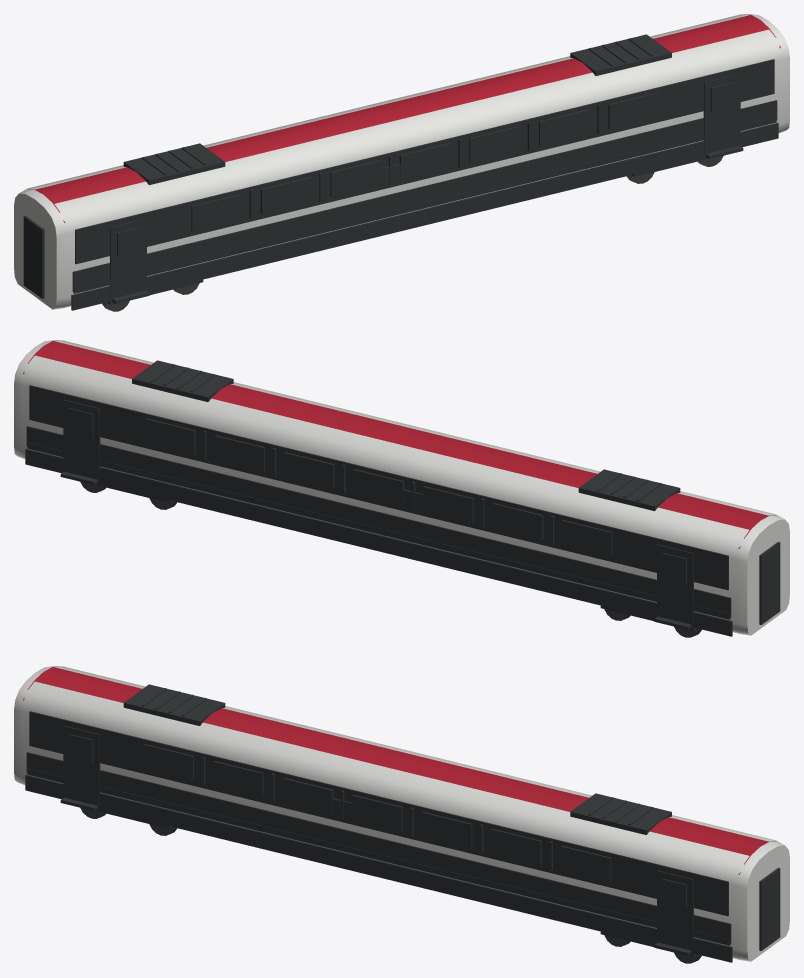
Rendered from railjet-nextgen-restaurant.glb.
The picture shows the model from 3 angles, top to bottom: view 1: azimuth 30°, elevation 25°; view 2: azimuth 150°, elevation 25°; view 3: azimuth 330°, elevation 25°; orthographic projection.
Visible parts, largest first — view 1: restaurant_lofted_body, restaurant_black_window_ribbon_-1, restaurant_red_roof, restaurant_silver_flank_-1, restaurant_dark_skirt_-1, restaurant_red_sill_-1, restaurant_hvac_0, restaurant_hvac_1, restaurant_wide_door_-1_1, restaurant_wide_door_-1_0, gangway_1.002, restaurant_window_-1_1 (+10 smaller); view 2: restaurant_lofted_body, restaurant_black_window_ribbon_1, restaurant_red_roof, restaurant_silver_flank_1, restaurant_dark_skirt_1, restaurant_red_sill_1, restaurant_hvac_0, restaurant_hvac_1, restaurant_wide_door_1_1, restaurant_wide_door_1_0, gangway_1.002, restaurant_window_1_1 (+12 smaller); view 3: restaurant_lofted_body, restaurant_black_window_ribbon_-1, restaurant_red_roof, restaurant_silver_flank_-1, restaurant_dark_skirt_-1, restaurant_red_sill_-1, restaurant_hvac_0, restaurant_hvac_1, restaurant_wide_door_-1_0, restaurant_wide_door_-1_1, gangway_0.002, restaurant_window_-1_2 (+10 smaller).
Boxes of the visible parts, left/top/right/bottom form: restaurant_lofted_body: left=14, top=14, right=789, bottom=309; restaurant_black_window_ribbon_-1: left=75, top=59, right=774, bottom=264; restaurant_red_roof: left=28, top=14, right=780, bottom=222; restaurant_silver_flank_-1: left=72, top=100, right=777, bottom=291; restaurant_dark_skirt_-1: left=71, top=122, right=778, bottom=310; restaurant_red_sill_-1: left=73, top=116, right=776, bottom=293; restaurant_hvac_0: left=123, top=143, right=225, bottom=185; restaurant_hvac_1: left=570, top=34, right=671, bottom=75; restaurant_wide_door_-1_1: left=703, top=73, right=740, bottom=154; restaurant_wide_door_-1_0: left=110, top=218, right=146, bottom=299; gangway_1.002: left=23, top=215, right=44, bottom=298; restaurant_window_-1_1: left=260, top=177, right=311, bottom=213; restaurant_lofted_body: left=14, top=340, right=789, bottom=635; restaurant_black_window_ribbon_1: left=29, top=385, right=728, bottom=590; restaurant_red_roof: left=23, top=340, right=775, bottom=548; restaurant_silver_flank_1: left=26, top=426, right=731, bottom=617; restaurant_dark_skirt_1: left=25, top=448, right=732, bottom=636; restaurant_red_sill_1: left=27, top=442, right=730, bottom=619; restaurant_hvac_0: left=578, top=469, right=680, bottom=511; restaurant_hvac_1: left=132, top=360, right=233, bottom=401; restaurant_wide_door_1_1: left=63, top=399, right=100, bottom=480; restaurant_wide_door_1_0: left=657, top=544, right=693, bottom=625; gangway_1.002: left=759, top=541, right=780, bottom=624; restaurant_window_1_1: left=492, top=503, right=543, bottom=539; restaurant_lofted_body: left=14, top=666, right=789, bottom=961; restaurant_black_window_ribbon_-1: left=29, top=711, right=728, bottom=916; restaurant_red_roof: left=23, top=666, right=775, bottom=874; restaurant_silver_flank_-1: left=26, top=752, right=731, bottom=943; restaurant_dark_skirt_-1: left=25, top=774, right=732, bottom=962; restaurant_red_sill_-1: left=27, top=768, right=730, bottom=945; restaurant_hvac_0: left=123, top=684, right=225, bottom=725; restaurant_hvac_1: left=570, top=793, right=671, bottom=834; restaurant_wide_door_-1_0: left=63, top=725, right=100, bottom=806; restaurant_wide_door_-1_1: left=657, top=870, right=693, bottom=951; gangway_0.002: left=759, top=867, right=780, bottom=950; restaurant_window_-1_2: left=282, top=778, right=333, bottom=814.
Size of the model in its own units: 26.6 by 4.32 by 3.42.
